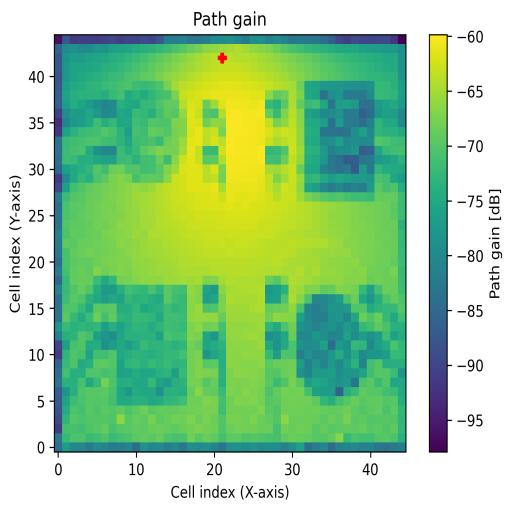Concrete: (296, 80, 375, 202)
Glass: (116, 82, 187, 183)
Metal: (297, 283, 390, 407)
Wood: (117, 285, 187, 405)
